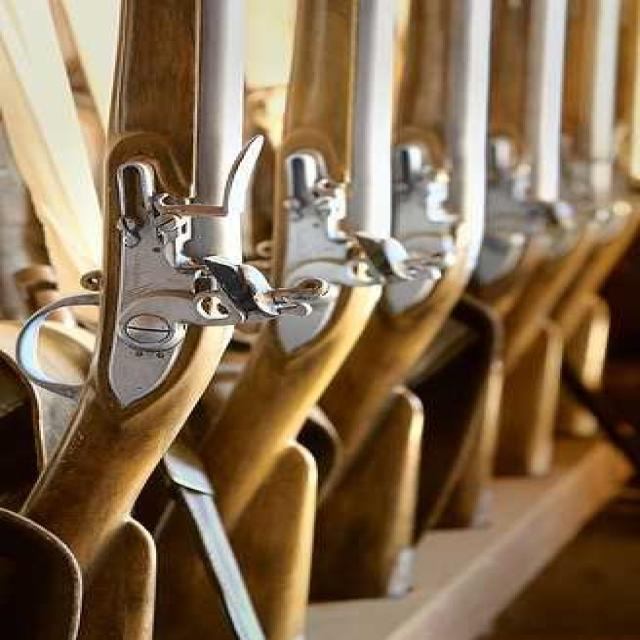heavyweapon: (5, 1, 259, 640)
